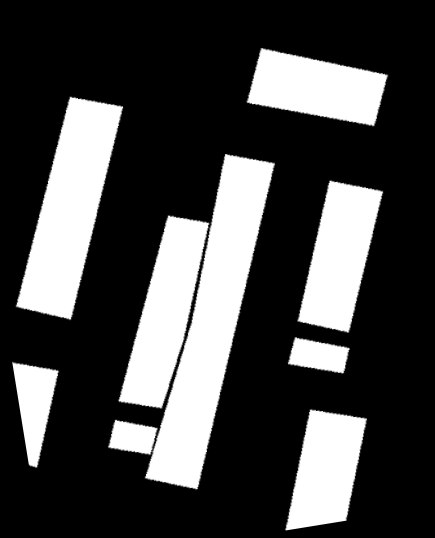parkingspot: (108, 154, 275, 489), (16, 97, 123, 320), (119, 216, 209, 408), (297, 181, 383, 333), (247, 48, 388, 126), (285, 410, 367, 530), (12, 362, 59, 468), (288, 337, 350, 373)
